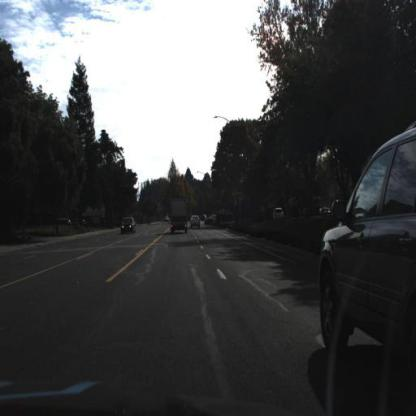car: (319, 122, 416, 394), (171, 190, 194, 235), (120, 216, 138, 239), (272, 206, 286, 223), (191, 212, 204, 230), (273, 206, 285, 219)
truck: (168, 190, 191, 238)
